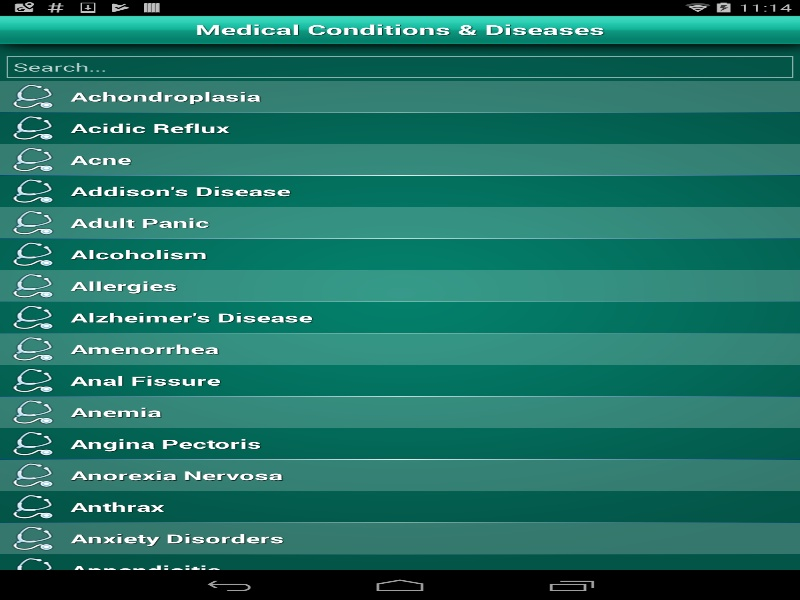Input: (6, 56, 793, 77)
